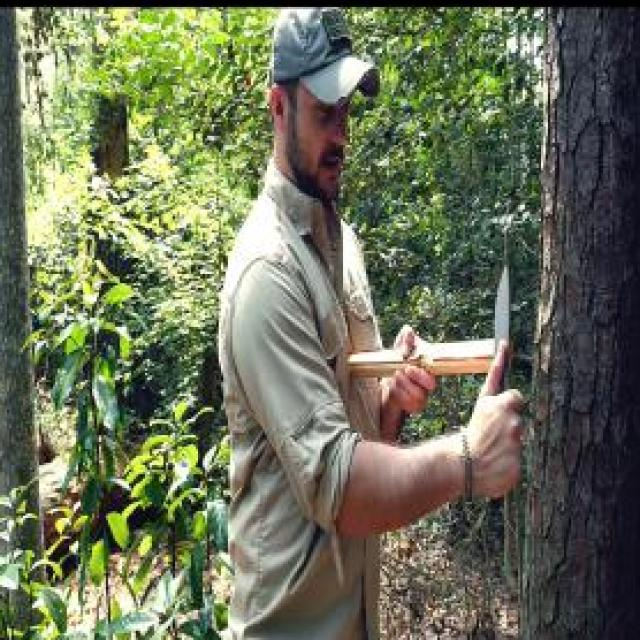knife: (481, 258, 526, 480)
